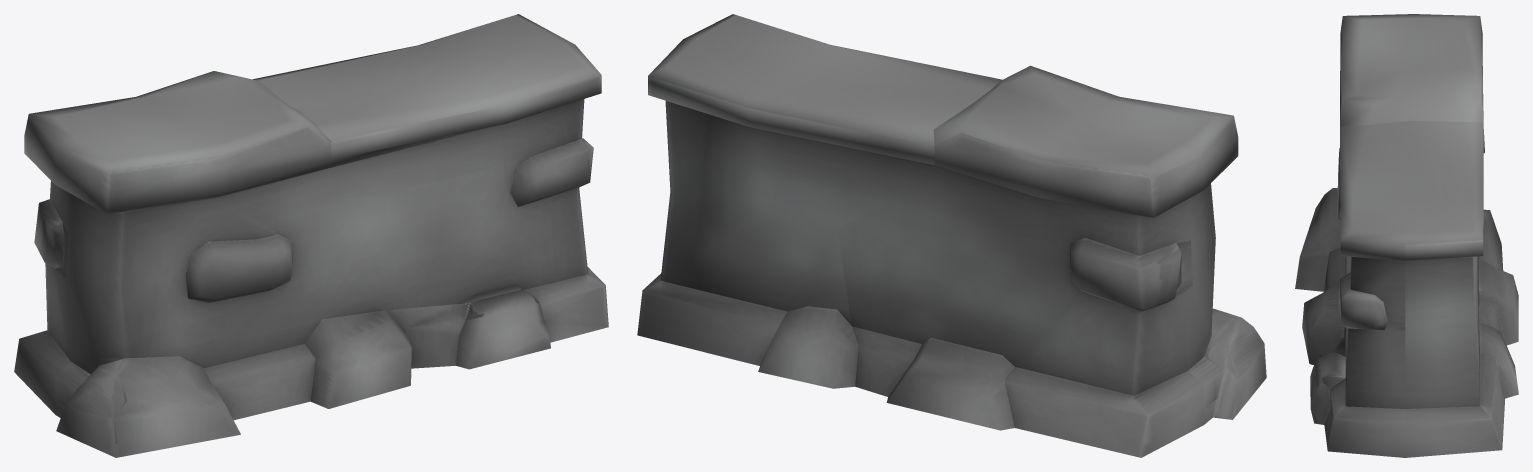
File: wall2.FBX
The picture shows the model from 3 angles, left to right: view 1: azimuth 30°, elevation 25°; view 2: azimuth 150°, elevation 25°; view 3: azimuth 270°, elevation 25°; orthographic projection. The views are drawn at different scales.
Visible parts, largest first — view 1: wall2; view 2: wall2; view 3: wall2.
Boxes of the visible parts, left/top/right/bottom form: wall2: left=14, top=14, right=608, bottom=457; wall2: left=637, top=14, right=1266, bottom=457; wall2: left=1295, top=14, right=1518, bottom=457.
Bounding box in the file's own units: 657 × 326 × 281.
